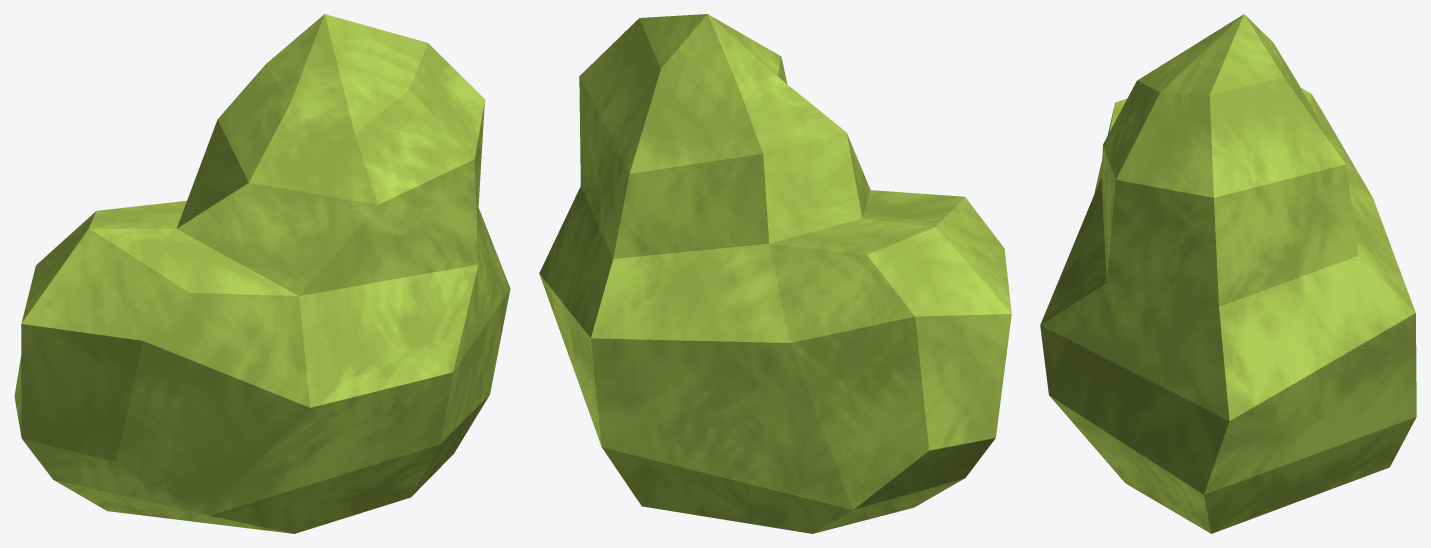
Rendered from Bush_Main (1).fbx.
3 views of the same model, side by side, from view 1: azimuth 30°, elevation 25°; view 2: azimuth 150°, elevation 25°; view 3: azimuth 270°, elevation 25° (orthographic). The views are drawn at different scales.
Visible parts, largest first — view 1: Bush; view 2: Bush; view 3: Bush.
Boxes of the visible parts, bbox=[...] form: Bush: bbox=[14, 14, 510, 533]; Bush: bbox=[539, 14, 1011, 533]; Bush: bbox=[1040, 14, 1416, 533].
Bounding box in the file's own units: 198 × 183 × 131.
Materials: 1 (1 with a texture image).
